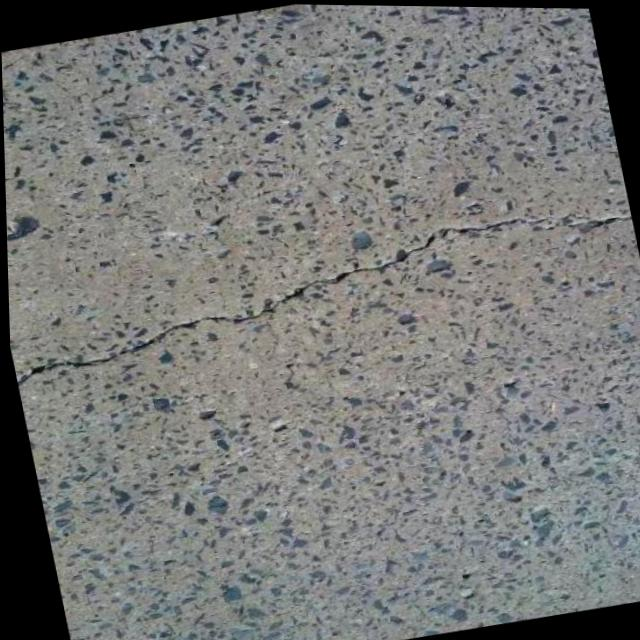Crack: (4, 182, 640, 398)
